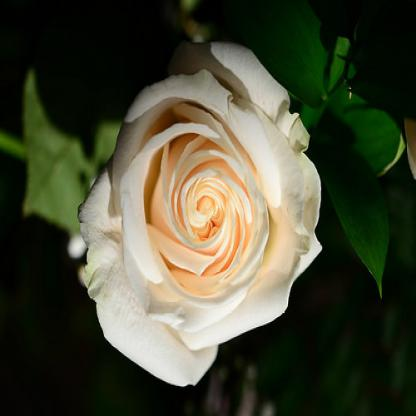ROSE-MAWAR: (73, 20, 330, 393)
